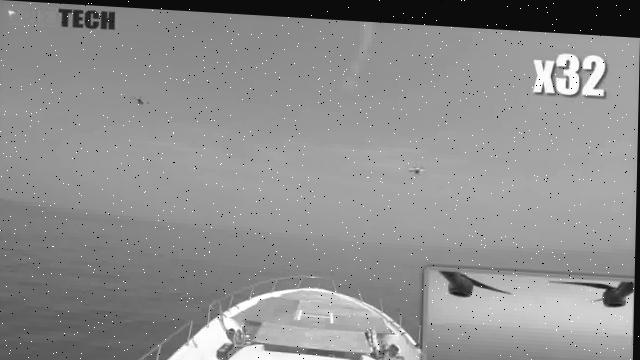drone: (126, 87, 153, 108), (405, 154, 428, 173)
